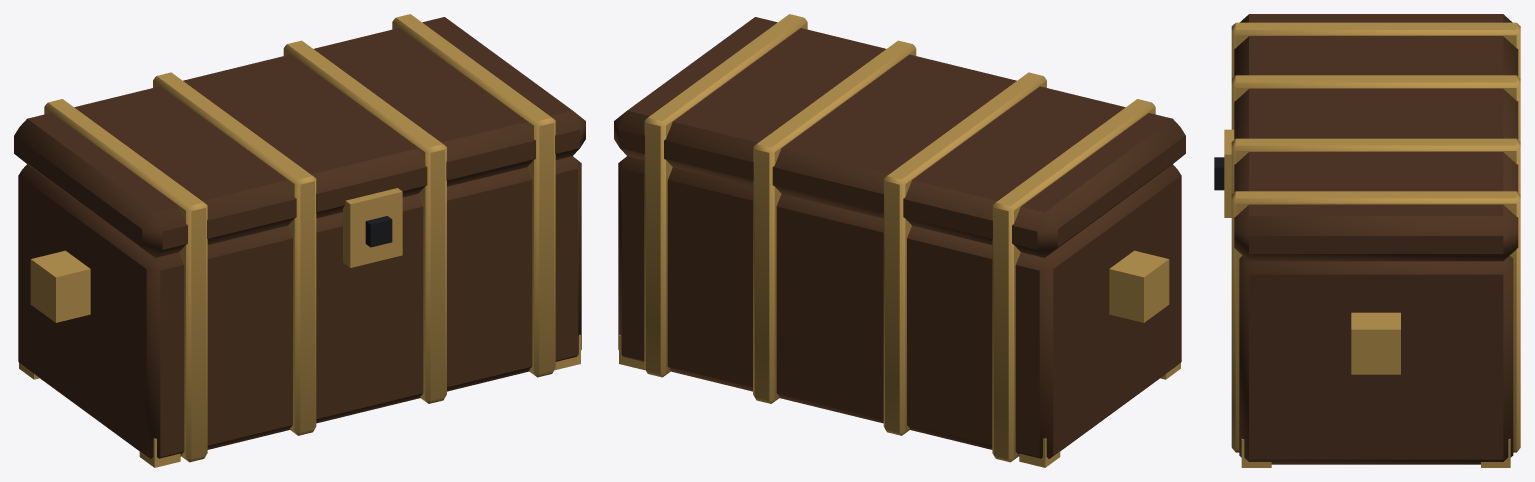
Rendered from locker_sea_chest.glb.
3 renders of one model, left to right at view 1: azimuth 30°, elevation 25°; view 2: azimuth 150°, elevation 25°; view 3: azimuth 270°, elevation 25°, orthographic.
Parts seen in each view (by area): view 1: locker_sea_chest; view 2: locker_sea_chest; view 3: locker_sea_chest.
Part boxes in pixels (x1,y1,x2,y2): locker_sea_chest: (14, 14, 585, 467); locker_sea_chest: (614, 14, 1185, 467); locker_sea_chest: (1214, 14, 1520, 467).
Size of the model in its own units: 1.18 by 0.563 by 0.615.
